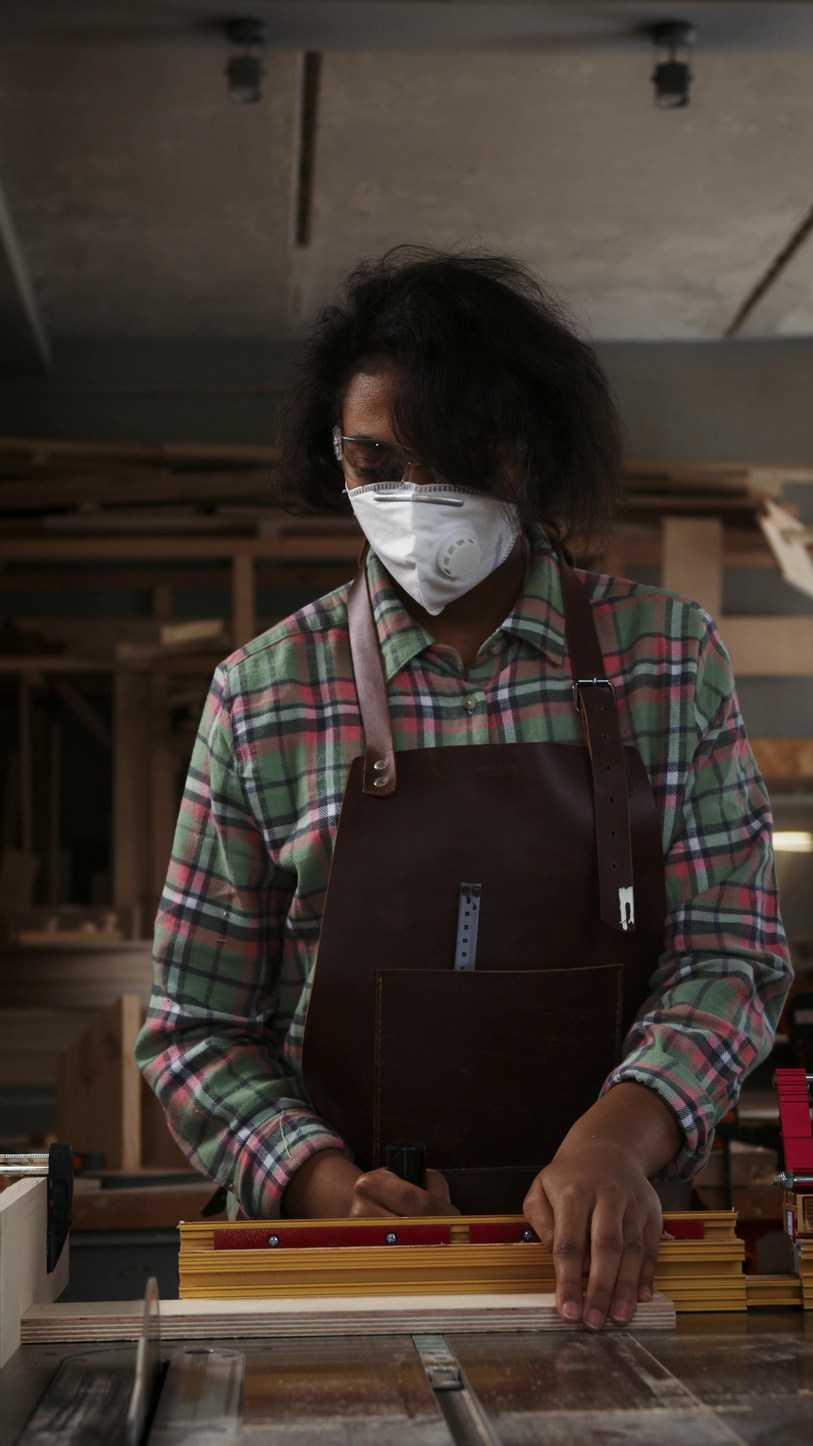mask: (345, 480, 516, 615)
person: (134, 249, 796, 1332)
